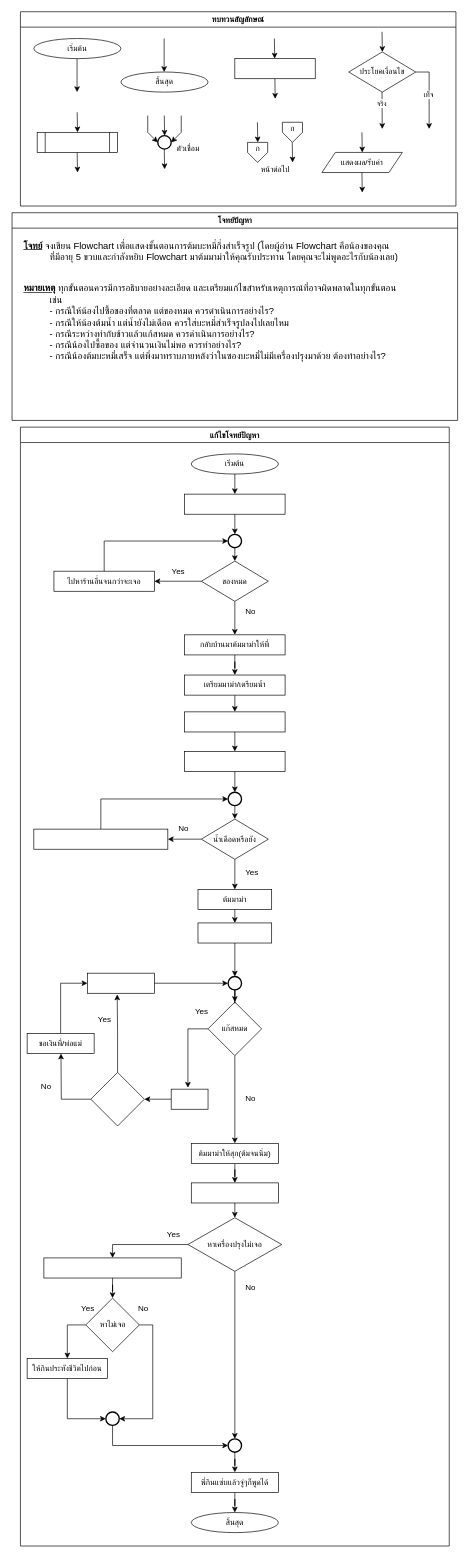
This 469x1558 diagram has some shape labels left out. The centre of each missing label's shape, as x and y in pixels:
กระบวนการ: the point at 274,68
ซื้อแก๊ส/เติมแก๊ส: the point at 120,983
ตั้งกะทะ/ เปิดไฟ: the point at 234,721
ต้มจนกวว่าจะมีไอน้ำขึ้นหรือฟองอากาศ: the point at 100,838
ต้มน้ำ: the point at 234,761
ฟังก์ชัน/โมดูล: the point at 77,142
หาผงมาม่าให้ทั่วหรือหาผงที่เก็บไว้ในบ้าน: the point at 112,1267
เงินพอไหม: the point at 117,1099
เช็คแก๊ส: the point at 234,932
เทมาม่าและน้ำลงในถ้วย: the point at 234,1192
ให้น้องไปซื้อของที่ตลาด: the point at 234,503
ไปซื้อแก๊ส: the point at 189,1098
